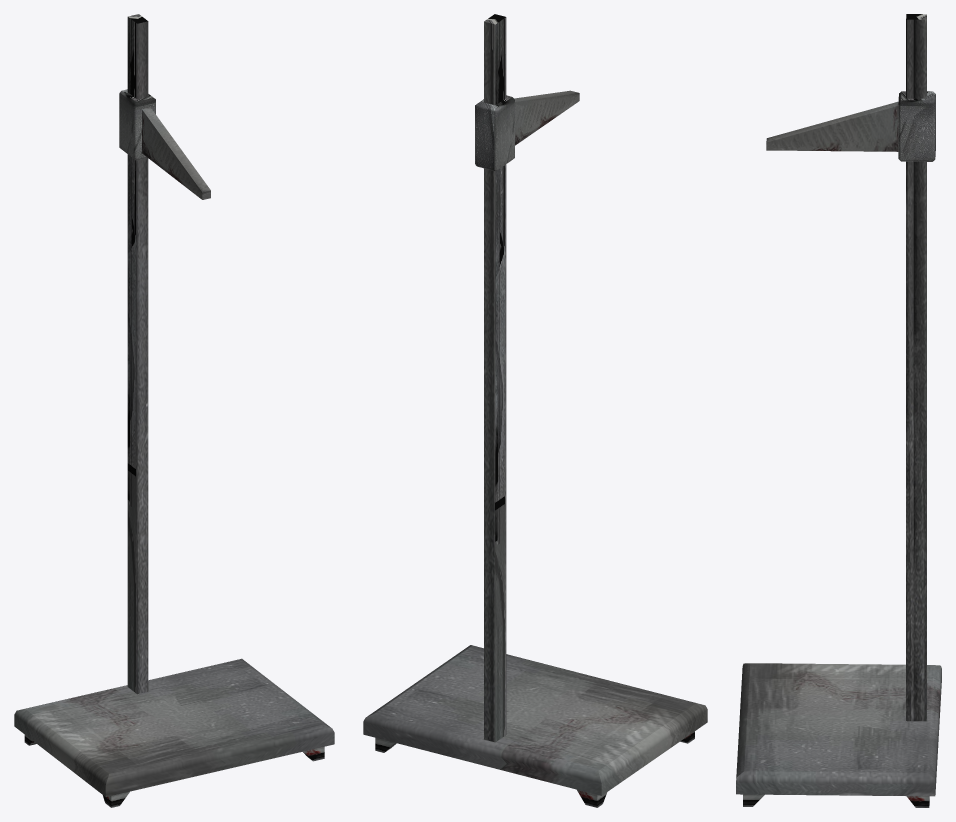
Rendered from heighter.fbx.
The picture shows the model from 3 angles, left to right: view 1: azimuth 30°, elevation 25°; view 2: azimuth 150°, elevation 25°; view 3: azimuth 270°, elevation 25°; orthographic projection. The views are drawn at different scales.
Parts seen in each view (by area): view 1: mesureur; view 2: mesureur; view 3: mesureur.
Boxes of the visible parts, box(x1,y1,x2,y2) form: mesureur: box(14, 14, 334, 807); mesureur: box(363, 14, 707, 807); mesureur: box(736, 14, 941, 807).
Bounding box in the file's own units: 78.15 × 229 × 57.97.
